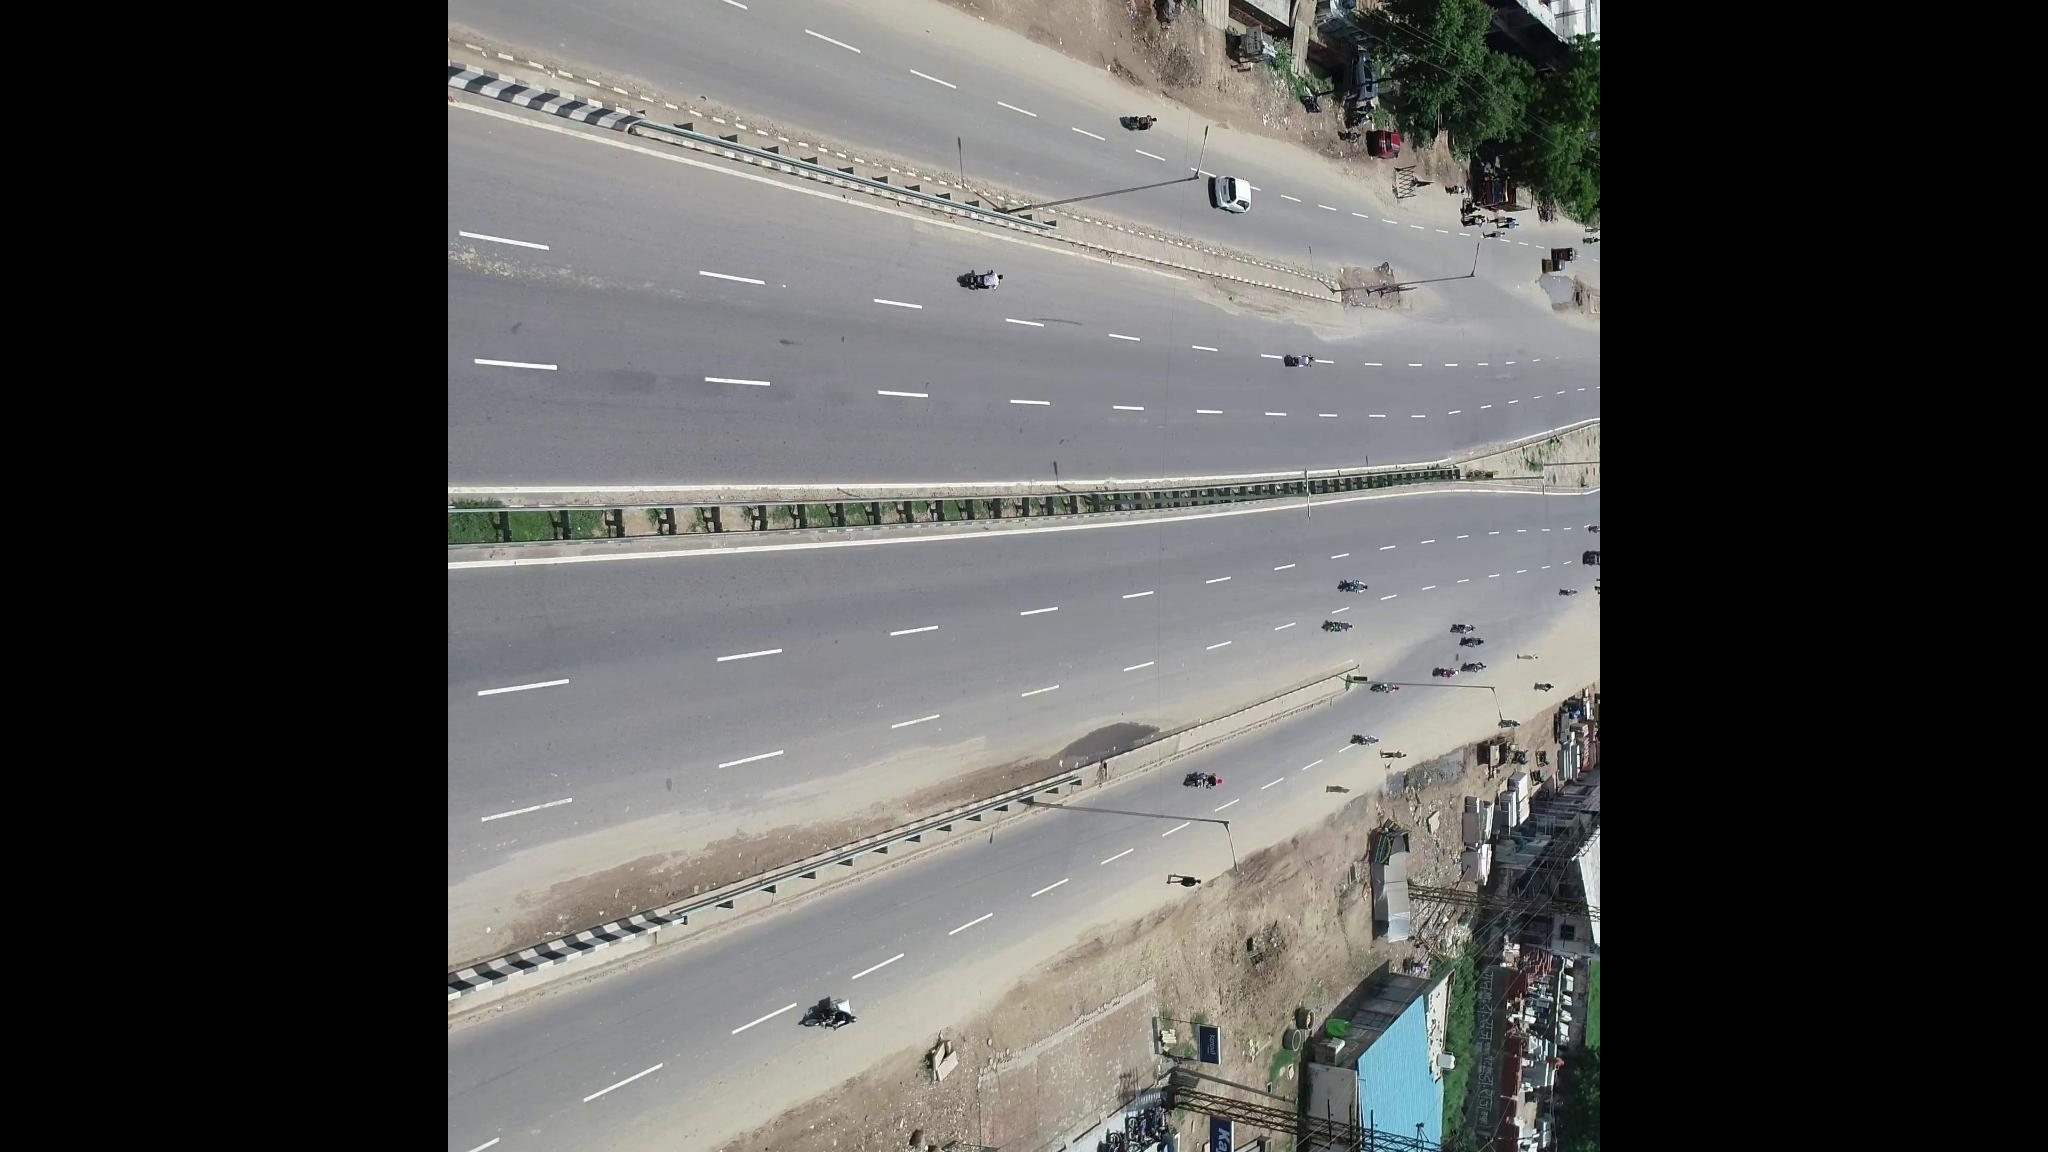Muddy_road: (574, 806, 798, 907)
Waterlogging: (1065, 708, 1163, 760)
